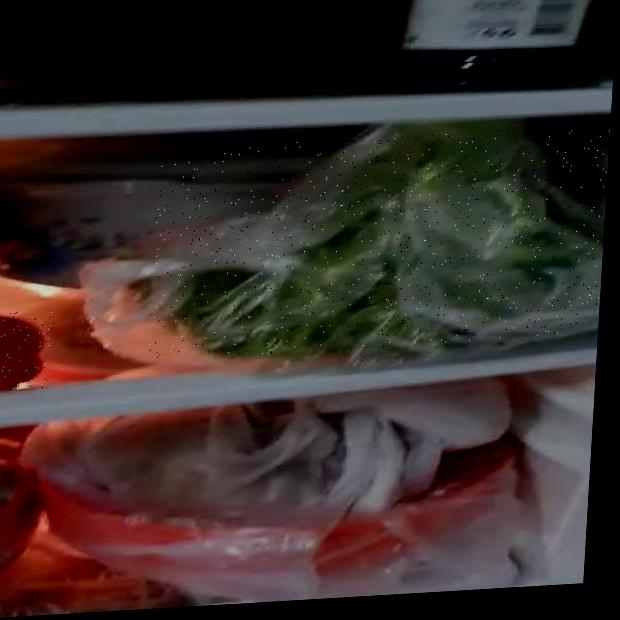lettuce: (146, 123, 611, 361)
tomato: (0, 310, 52, 392)
